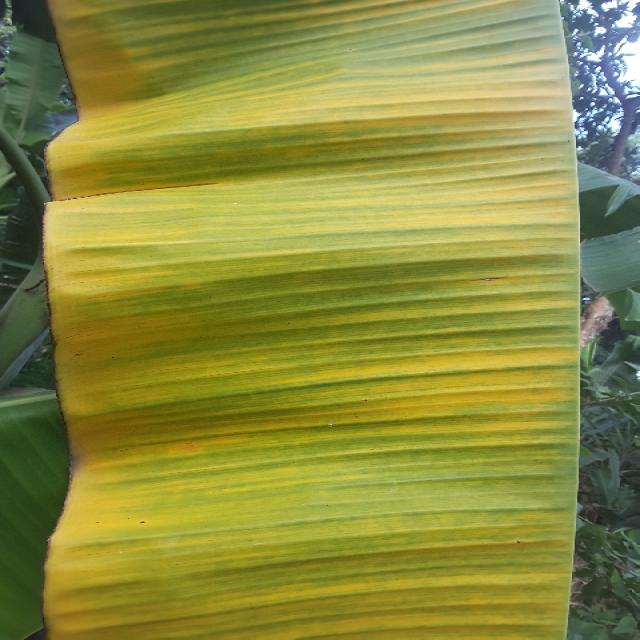Cordana: (0, 0, 587, 639)
